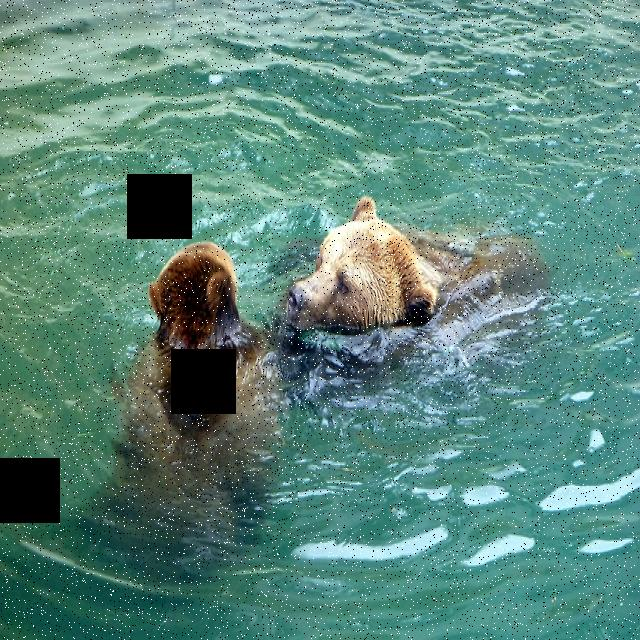Bear: (282, 196, 536, 340)
